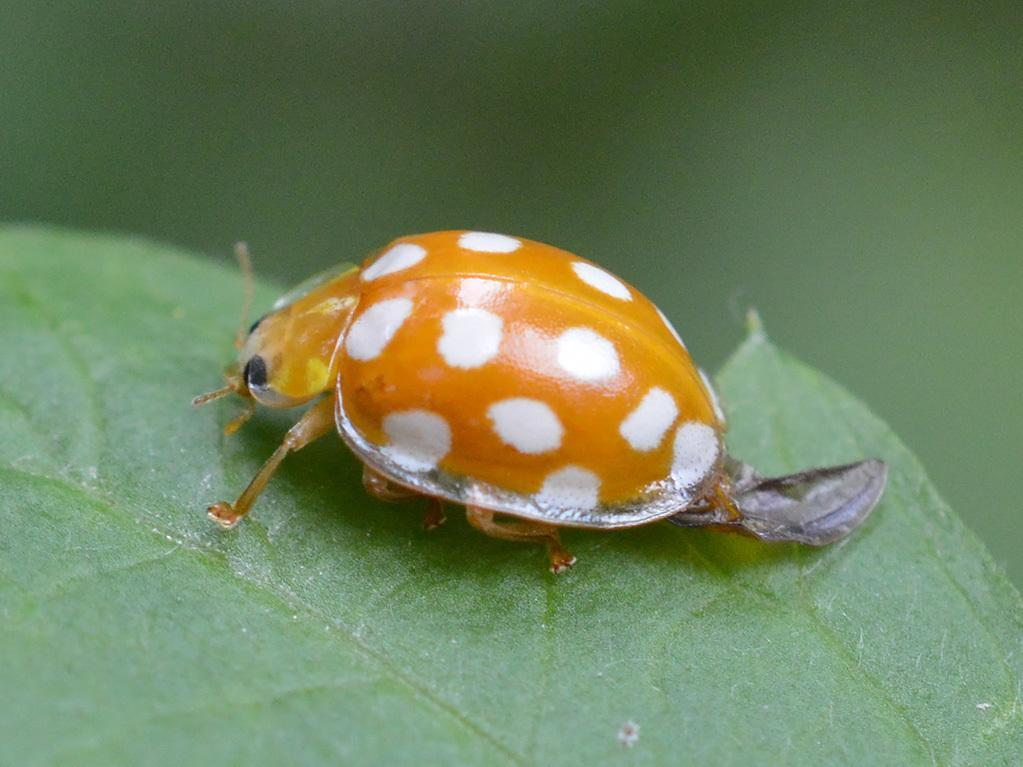ladybug: (189, 219, 751, 583)
